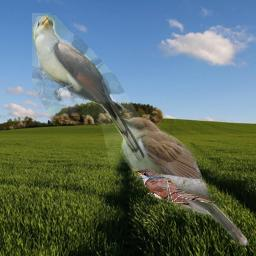Cuckoo: (115, 117, 249, 247), (32, 13, 148, 163), (132, 167, 219, 209)
